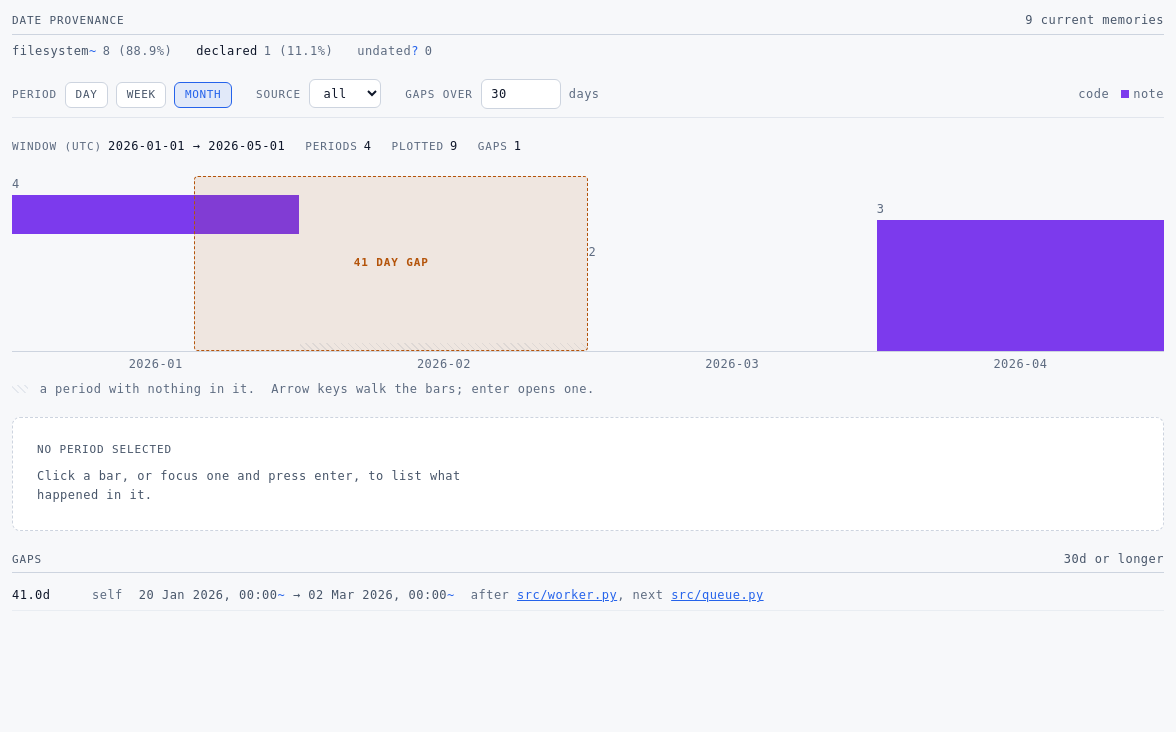
selecting a period › fetches exactly the clicked period's range, not a guessed width
Expected: the element with test id "activity-chart" is shown, [12, 176, 1164, 352]
Click the button with test id "bar" showing "4" at (156, 214), box [12, 176, 299, 351]
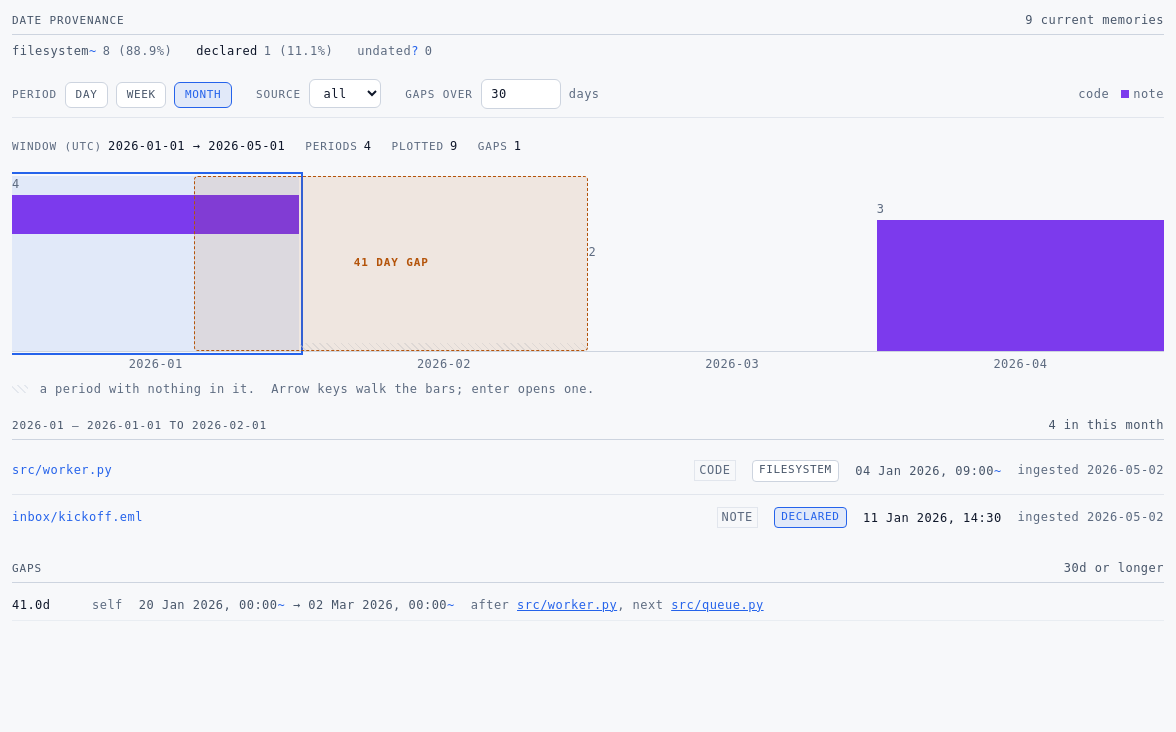
Expected: the list with test id "period-memories" shows "src/worker.py", [12, 462, 678, 479]
